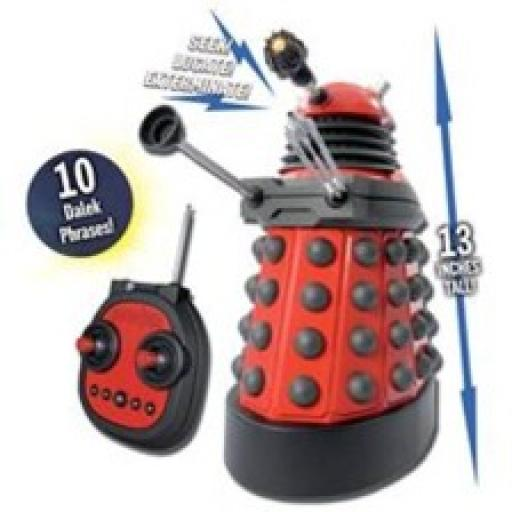dalek: (137, 29, 444, 503)
